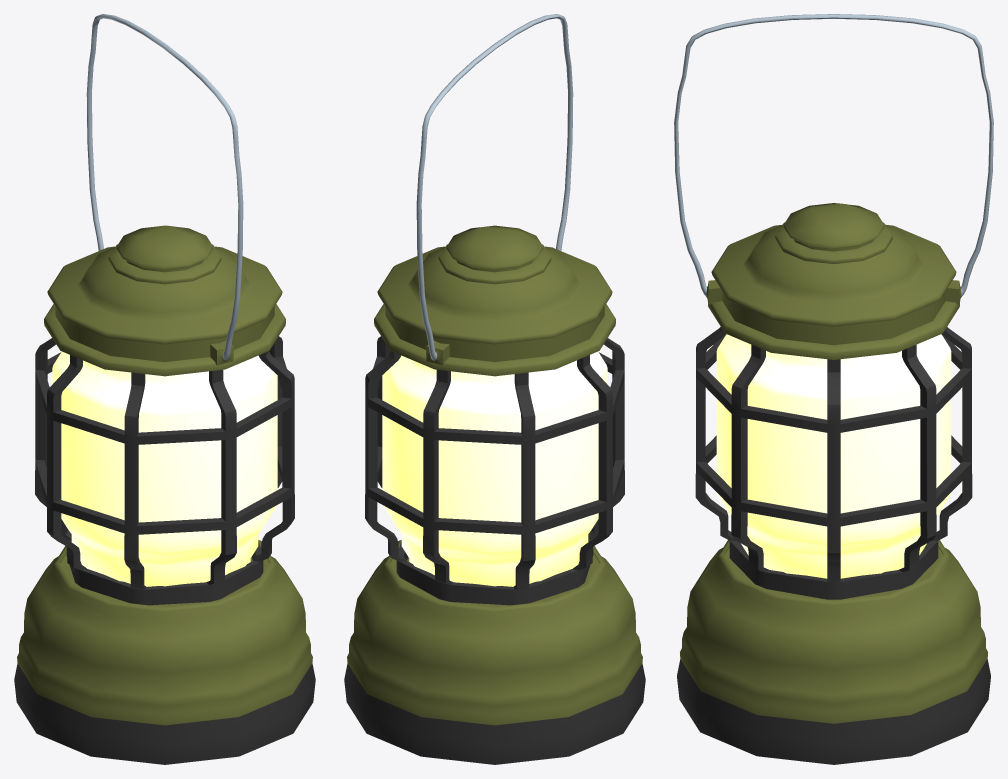
The model's file is lantern.fbx.
3 views of the same model, side by side, from view 1: azimuth 30°, elevation 25°; view 2: azimuth 150°, elevation 25°; view 3: azimuth 270°, elevation 25° (orthographic). The views are drawn at different scales.
Visible parts, largest first — view 1: Cube.119, Cube.120, Cube.121; view 2: Cube.119, Cube.120, Cube.121; view 3: Cube.119, Cube.120, Cube.121.
Part boxes in pixels (left/top/right/bottom): Cube.119: left=14, top=225, right=315, bottom=764; Cube.120: left=35, top=336, right=294, bottom=605; Cube.121: left=86, top=14, right=243, bottom=365; Cube.119: left=344, top=225, right=645, bottom=764; Cube.120: left=365, top=336, right=624, bottom=605; Cube.121: left=416, top=14, right=573, bottom=365; Cube.119: left=677, top=203, right=990, bottom=764; Cube.120: left=695, top=327, right=972, bottom=599; Cube.121: left=674, top=14, right=993, bottom=304.
Size of the model in its own units: 43 by 103 by 43.75.
